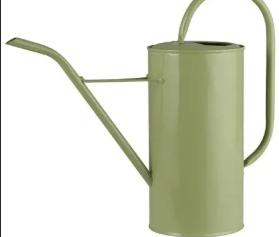ARROSOIR: (1, 0, 279, 237)
